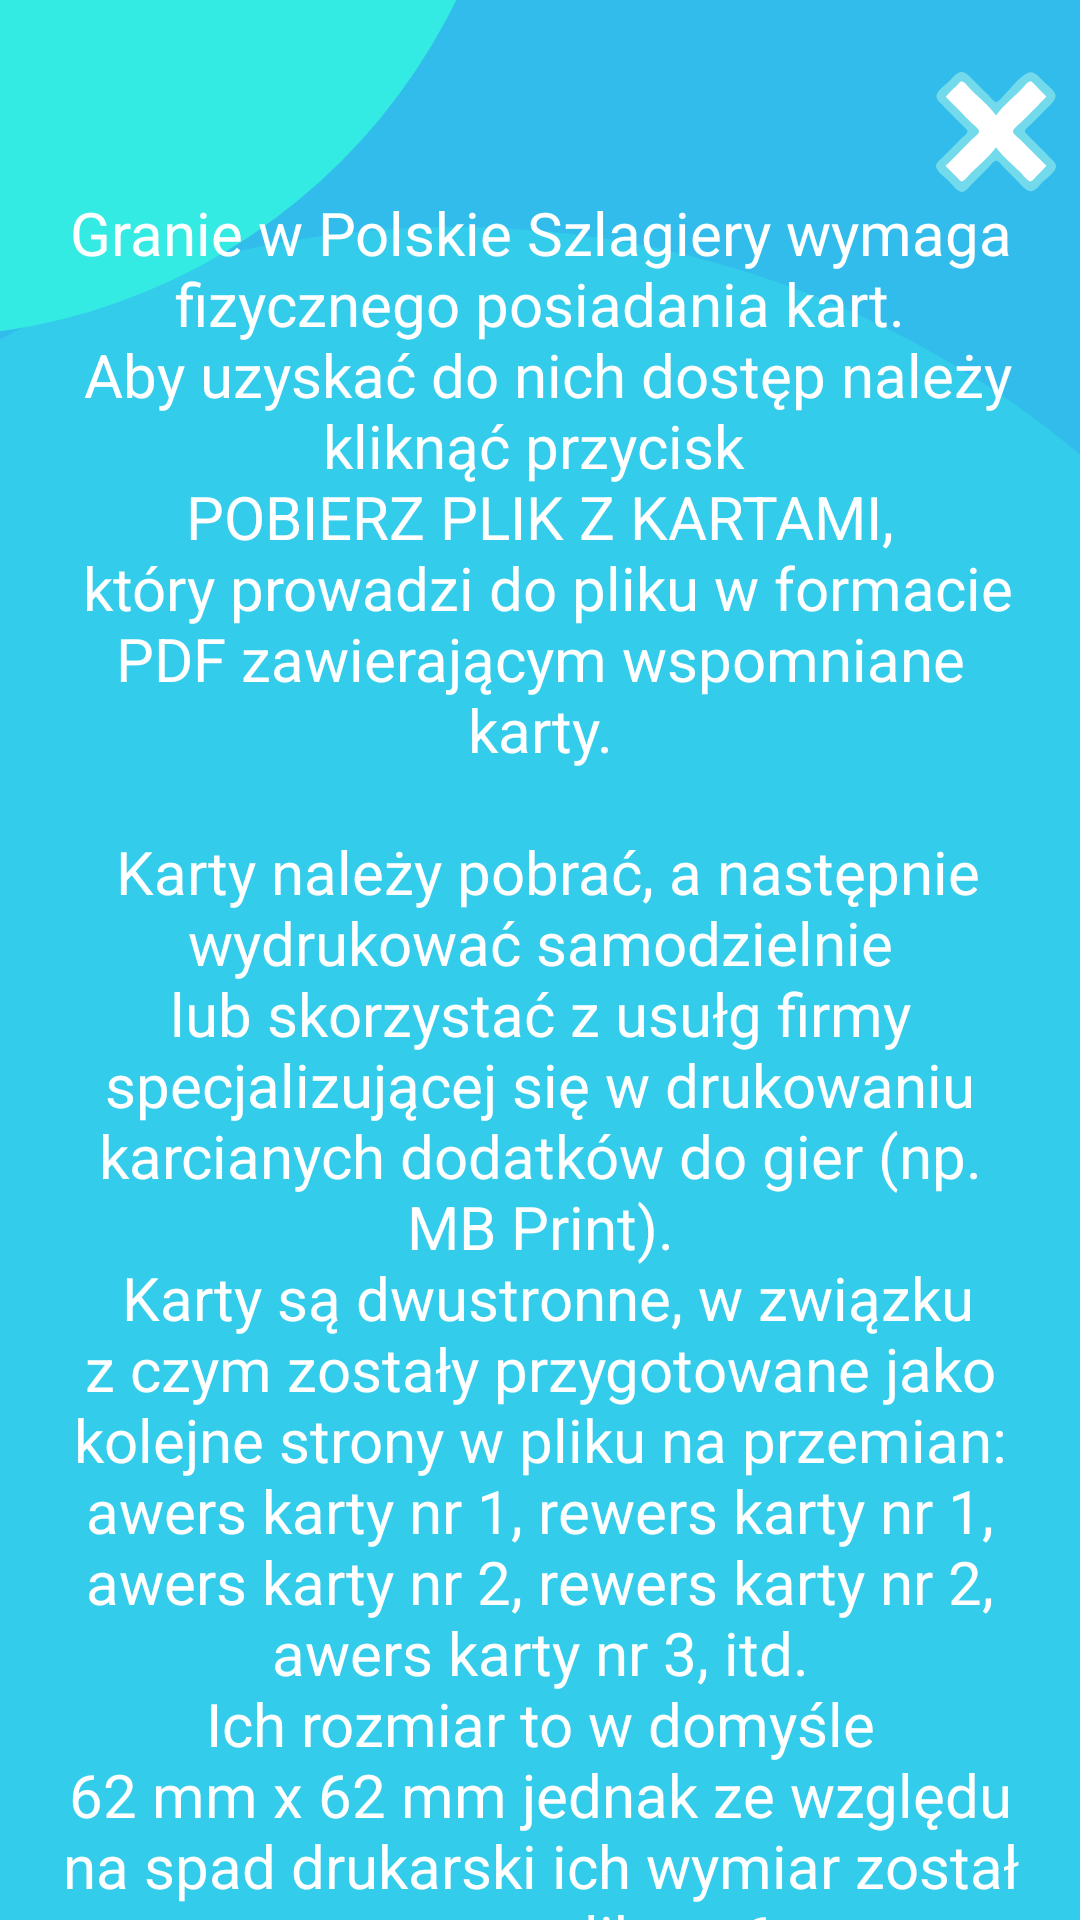

Where icons sit on this 1080 × 1920 app screen, as (x1=x1, y1=y1, x2=x2, y2=y2):
iks: (x1=936, y1=72, x2=1056, y2=192)
